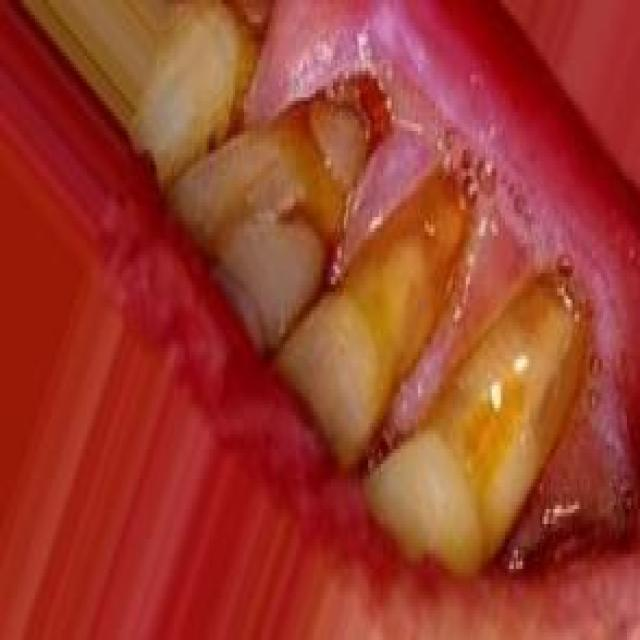caries: (274, 51, 390, 226)
